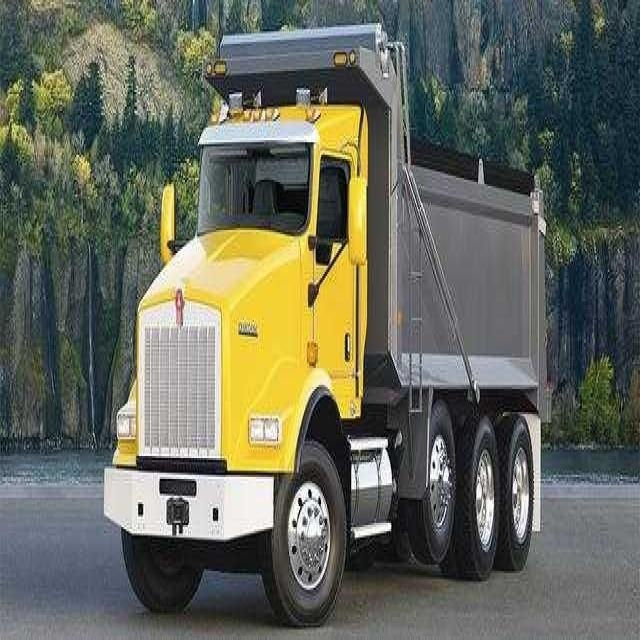Truck: (102, 19, 550, 638)
